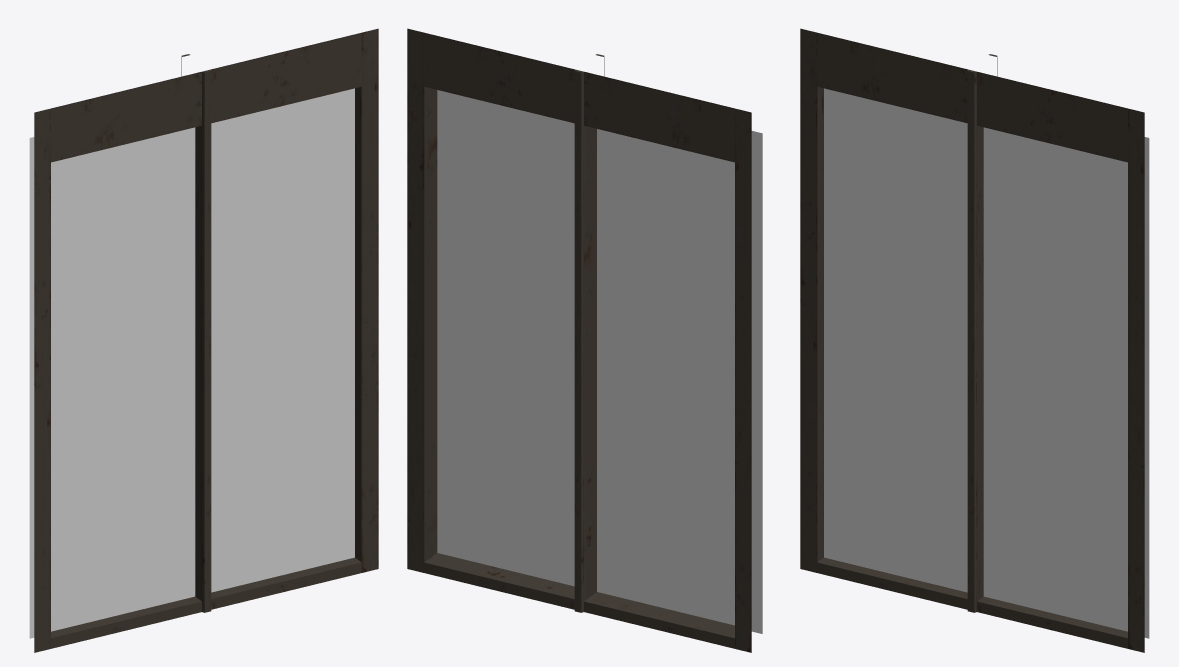
The model's file is Metal_FullWindow.gltf.
The picture shows the model from 3 angles, left to right: view 1: azimuth 30°, elevation 25°; view 2: azimuth 150°, elevation 25°; view 3: azimuth 330°, elevation 25°; orthographic projection.
Visible parts, largest first — view 1: Metal_FullWindow; view 2: Metal_FullWindow; view 3: Metal_FullWindow.
Boxes of the visible parts, x1=… form: Metal_FullWindow: x1=29, y1=28, x2=378, y2=652; Metal_FullWindow: x1=407, y1=28, x2=762, y2=652; Metal_FullWindow: x1=800, y1=28, x2=1149, y2=652.
Size of the model in its own units: 2 by 3 by 0.2311.
Materials: 3 (1 with a texture image).
